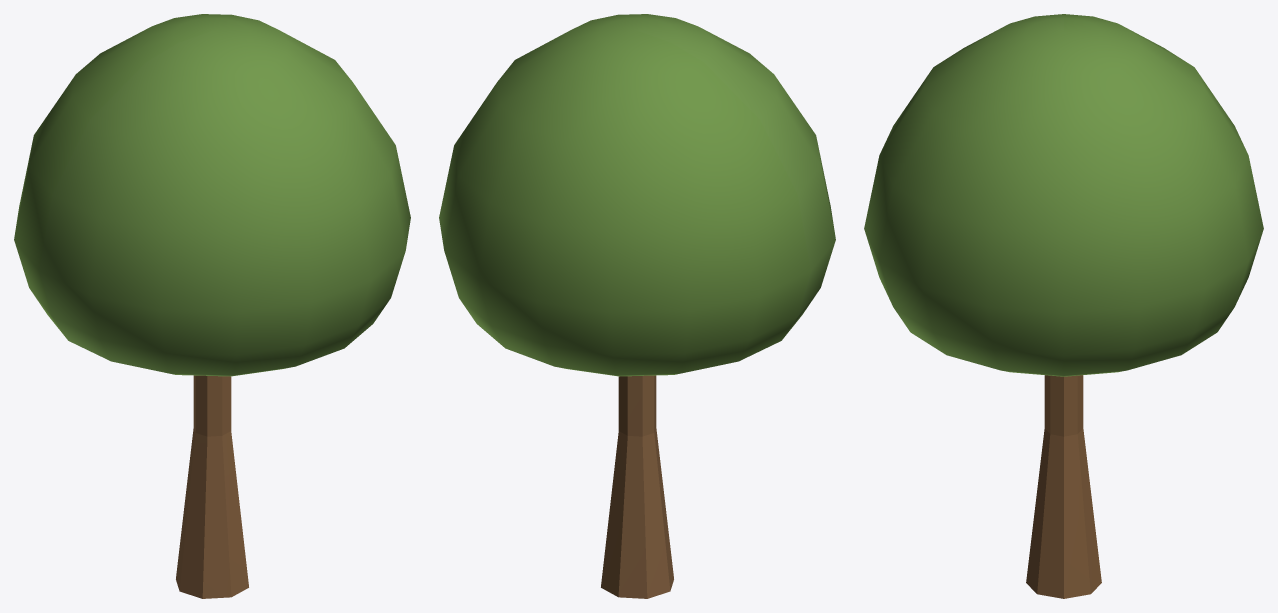
Rendered from tree_1_green.fbx.
The picture shows the model from 3 angles, left to right: view 1: azimuth 30°, elevation 25°; view 2: azimuth 150°, elevation 25°; view 3: azimuth 270°, elevation 25°; orthographic projection.
Visible parts, largest first — view 1: tree_1_green; view 2: tree_1_green; view 3: tree_1_green.
Part boxes in pixels (bbox=[...]): tree_1_green: bbox=[14, 14, 410, 598]; tree_1_green: bbox=[439, 14, 835, 598]; tree_1_green: bbox=[864, 14, 1263, 598].
Size of the model in its own units: 444 by 676 by 444.
